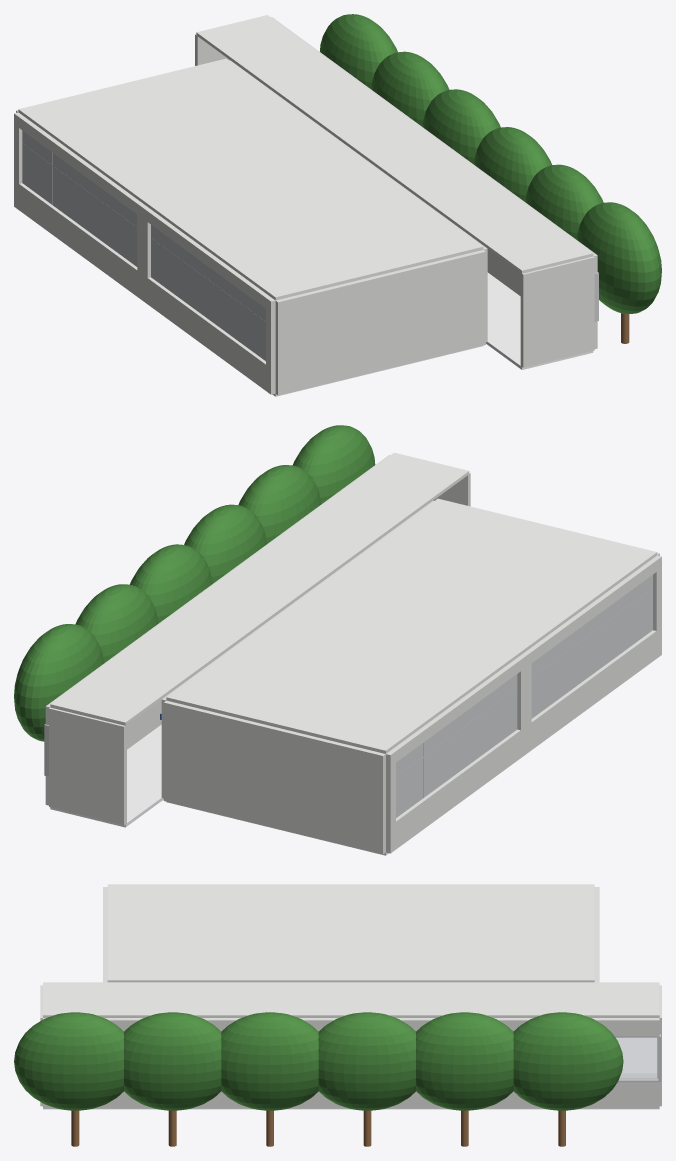
Rendered from classroom.glb.
3 renders of one model, top to bottom at view 1: azimuth 30°, elevation 25°; view 2: azimuth 150°, elevation 25°; view 3: azimuth 270°, elevation 25°, orthographic. The views are drawn at different scales.
Visible parts, largest first — view 1: Room1_Ceiling, Room2_Ceiling, Corridor_Ceiling, Wall_Back_Global, Corridor_EndWall_South, Corridor_Outside_Foliage_0, Room2_Window_Frame_Outer, Room1_Window_Frame_Outer, Room1_Wall_West_Low, Room2_Wall_West_Low, Corridor_Outside_Foliage_1, Corridor_Outside_Foliage_5 (+9 smaller); view 2: Room2_Ceiling, Room1_Ceiling, Corridor_Ceiling, Room2_Wall_Front, Corridor_EndWall_North, Room2_Window_Frame_Outer, Room1_Window_Frame_Outer, Corridor_Outside_Foliage_5, Room2_Wall_West_Low, Room1_Wall_West_Low, Corridor_Outside_Foliage_4, Corridor_Outside_Foliage_0 (+8 smaller); view 3: Room1_Ceiling, Room2_Ceiling, Corridor_Ceiling, Corridor_Outside_Foliage_5, Corridor_Outside_Foliage_0, Corridor_Outside_Foliage_2, Corridor_Outside_Foliage_4, Corridor_Outside_Foliage_1, Corridor_Outside_Foliage_3, Corridor_EastWall_Sill, Corridor_EastWall_Header, Corridor_EastWall_Glass (+3 smaller).
Part boxes in pixels (x1,y1,x2,y2): Room1_Ceiling: (147, 152, 483, 300); Room2_Ceiling: (18, 58, 354, 205); Corridor_Ceiling: (196, 15, 593, 273); Wall_Back_Global: (275, 250, 485, 395); Corridor_EndWall_South: (520, 256, 594, 367); Corridor_Outside_Foliage_0: (577, 202, 661, 313); Room2_Window_Frame_Outer: (22, 130, 137, 266); Room1_Window_Frame_Outer: (151, 225, 265, 360); Room1_Wall_West_Low: (142, 275, 275, 394); Room2_Wall_West_Low: (14, 180, 142, 300); Corridor_Outside_Foliage_1: (525, 164, 603, 239); Corridor_Outside_Foliage_5: (320, 14, 397, 88); Room2_Ceiling: (166, 598, 521, 753); Room1_Ceiling: (302, 498, 657, 654); Corridor_Ceiling: (50, 452, 469, 725); Room2_Wall_Front: (163, 700, 385, 854); Corridor_EndWall_North: (49, 707, 126, 824); Room2_Window_Frame_Outer: (396, 674, 517, 817); Room1_Window_Frame_Outer: (531, 575, 652, 718); Corridor_Outside_Foliage_5: (14, 624, 103, 741); Room2_Wall_West_Low: (386, 726, 526, 853); Room1_Wall_West_Low: (526, 627, 661, 753); Corridor_Outside_Foliage_4: (75, 584, 157, 663); Corridor_Outside_Foliage_0: (292, 425, 375, 504); Room1_Ceiling: (107, 884, 351, 982); Room2_Ceiling: (351, 884, 594, 982); Corridor_Ceiling: (43, 982, 659, 1017); Corridor_Outside_Foliage_5: (513, 1012, 623, 1110); Corridor_Outside_Foliage_0: (14, 1012, 123, 1110); Corridor_Outside_Foliage_2: (221, 1012, 318, 1110); Corridor_Outside_Foliage_4: (416, 1012, 513, 1110); Corridor_Outside_Foliage_1: (124, 1012, 221, 1110); Corridor_Outside_Foliage_3: (318, 1012, 415, 1110); Corridor_EastWall_Sill: (43, 1082, 659, 1108); Corridor_EastWall_Header: (43, 1018, 659, 1036); Corridor_EastWall_Glass: (616, 1037, 657, 1079).
Bounding box in the file's own units: 12.09 × 4.37 × 19.96.
